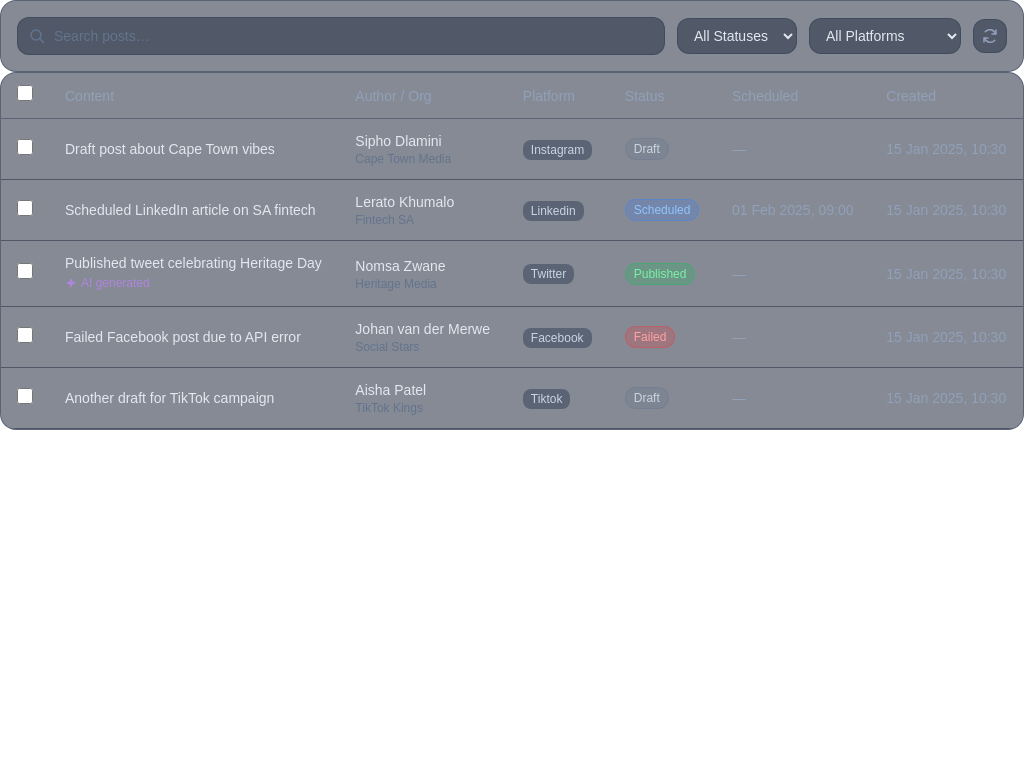
PostModerationTable › Selection › deselects all when select-all is clicked again
This screenshot has width=1024, height=768.
Click the checkbox named "select all posts": click(25, 93) [17,85,33,101]
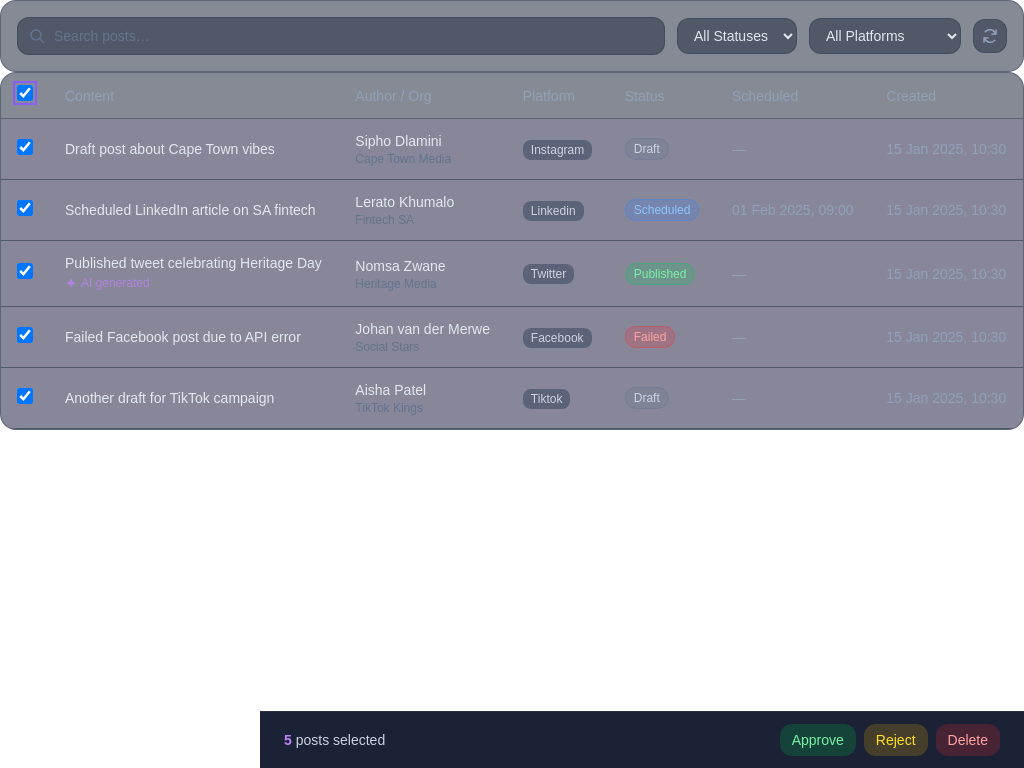
Click the checkbox named "select all posts": click(25, 93) [17,85,33,101]
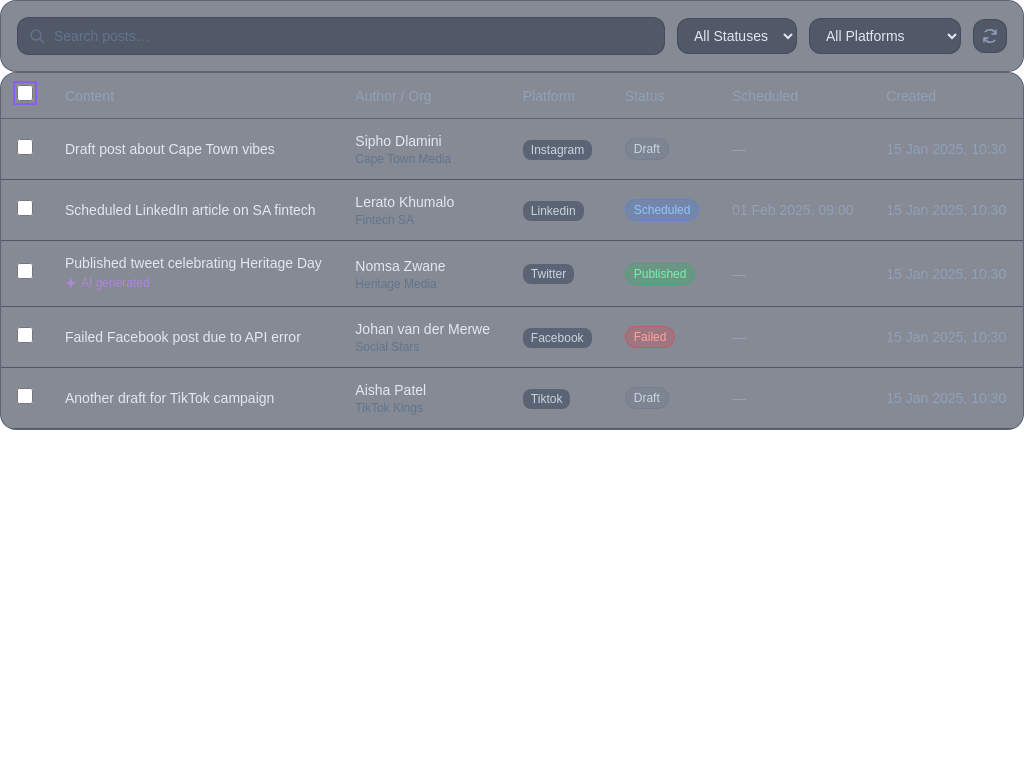
Check: the checkbox named "Select all posts" is not checked, box [17,85,33,101]
Check: the checkbox named "Select post by Sipho Dlamini" is not checked, box [17,138,33,154]
Check: the checkbox named "Select post by Lerato Khumalo" is not checked, box [17,200,33,216]
